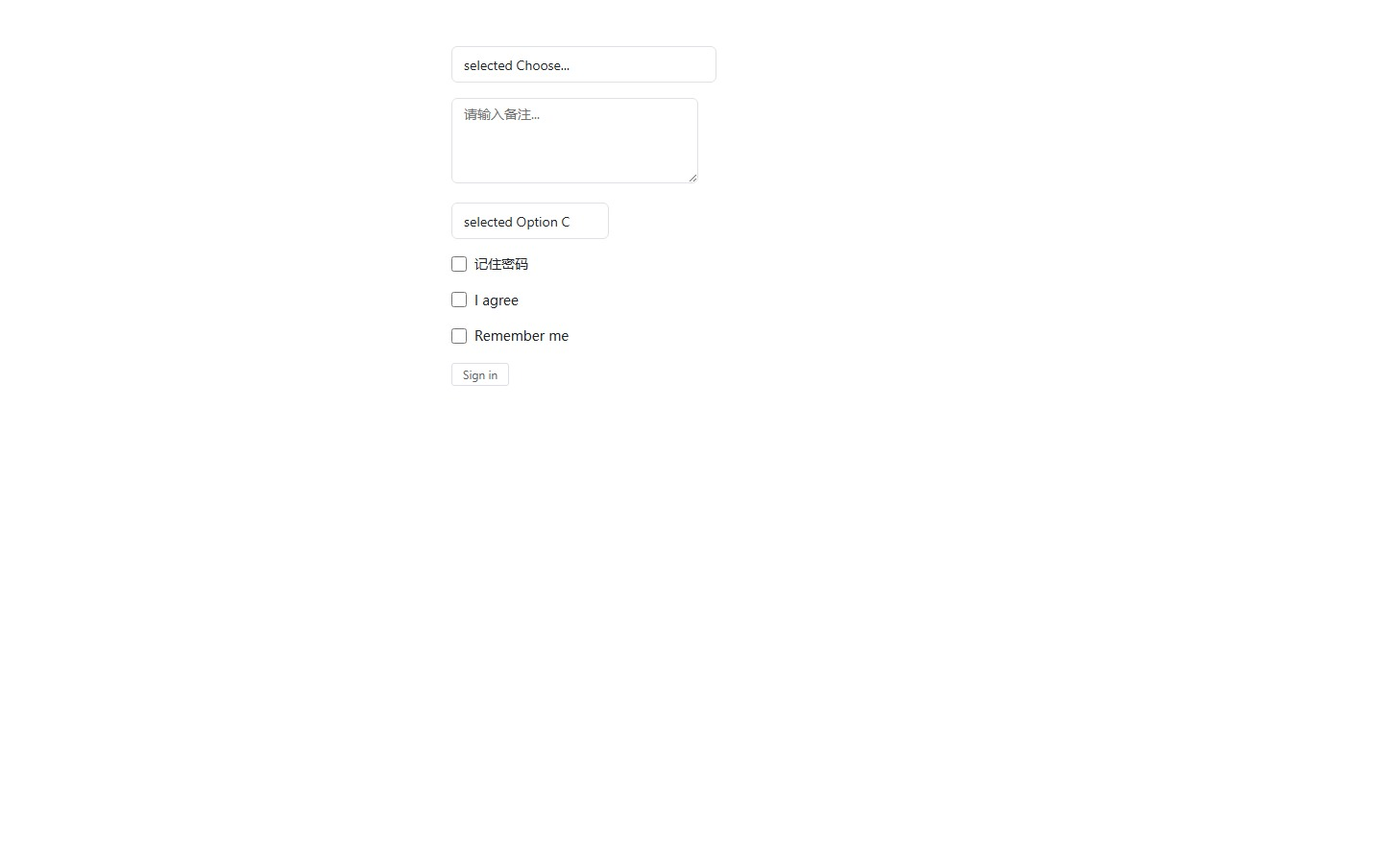button: (451, 362, 509, 385)
checkbox: (451, 256, 467, 271), (451, 292, 467, 307), (451, 328, 467, 343)
icon: (474, 326, 569, 345), (474, 254, 528, 273), (474, 290, 519, 309)
radio: (451, 326, 569, 345), (451, 254, 528, 273), (451, 290, 519, 309)
select: (451, 46, 716, 83), (451, 203, 609, 239)
textarea: (451, 98, 698, 183)
